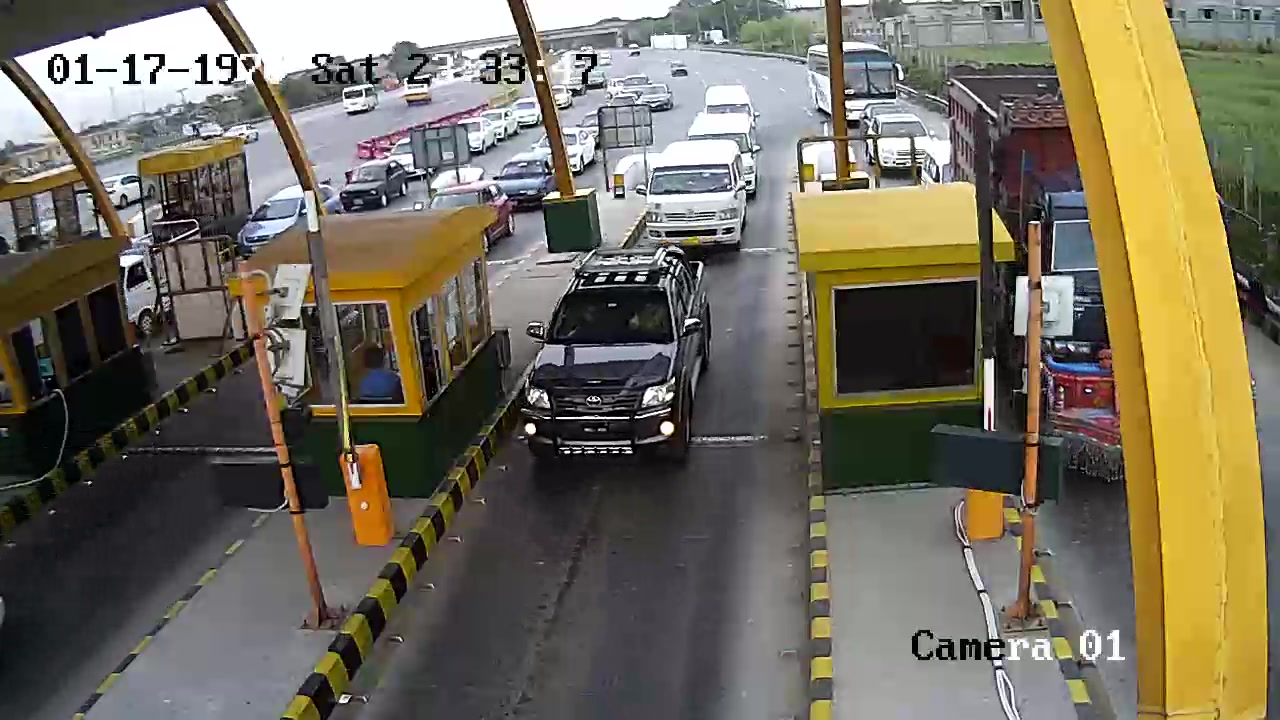F1: (533, 254, 713, 468)
